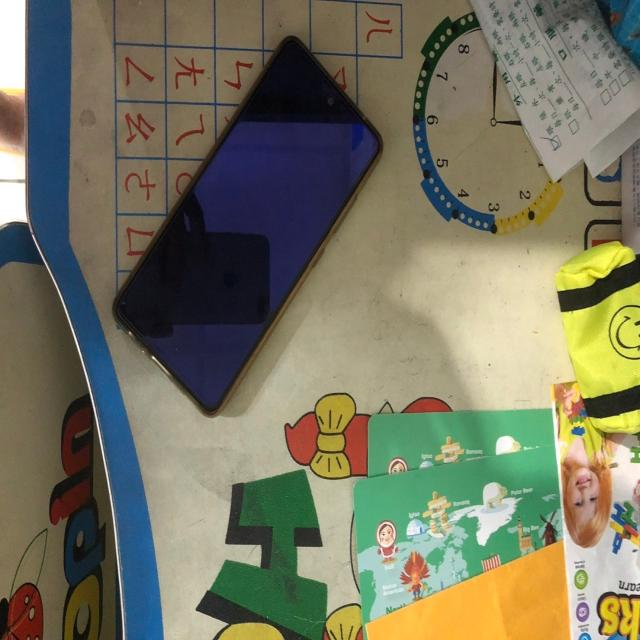Smartphone: (91, 15, 407, 445)
